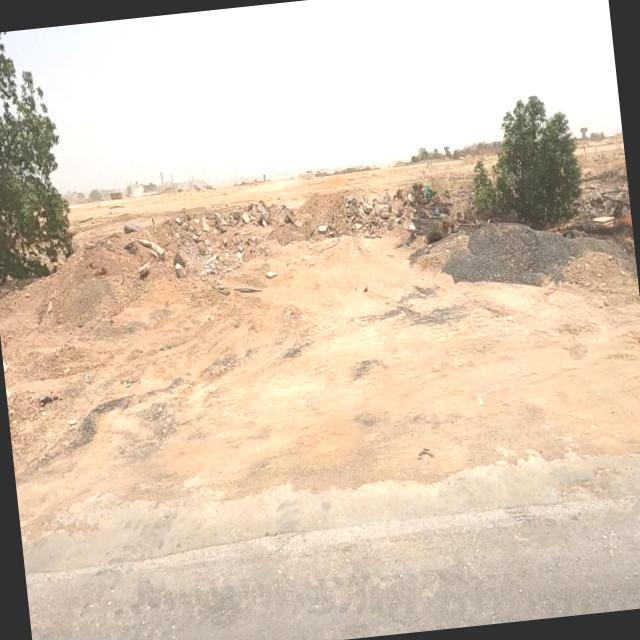debris: (382, 146, 472, 254)
